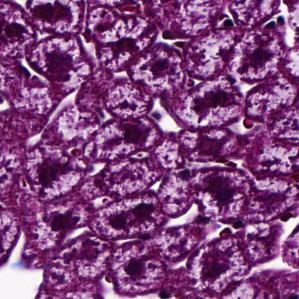inflammation: (180, 77, 241, 124), (30, 37, 86, 85), (24, 0, 84, 32)
